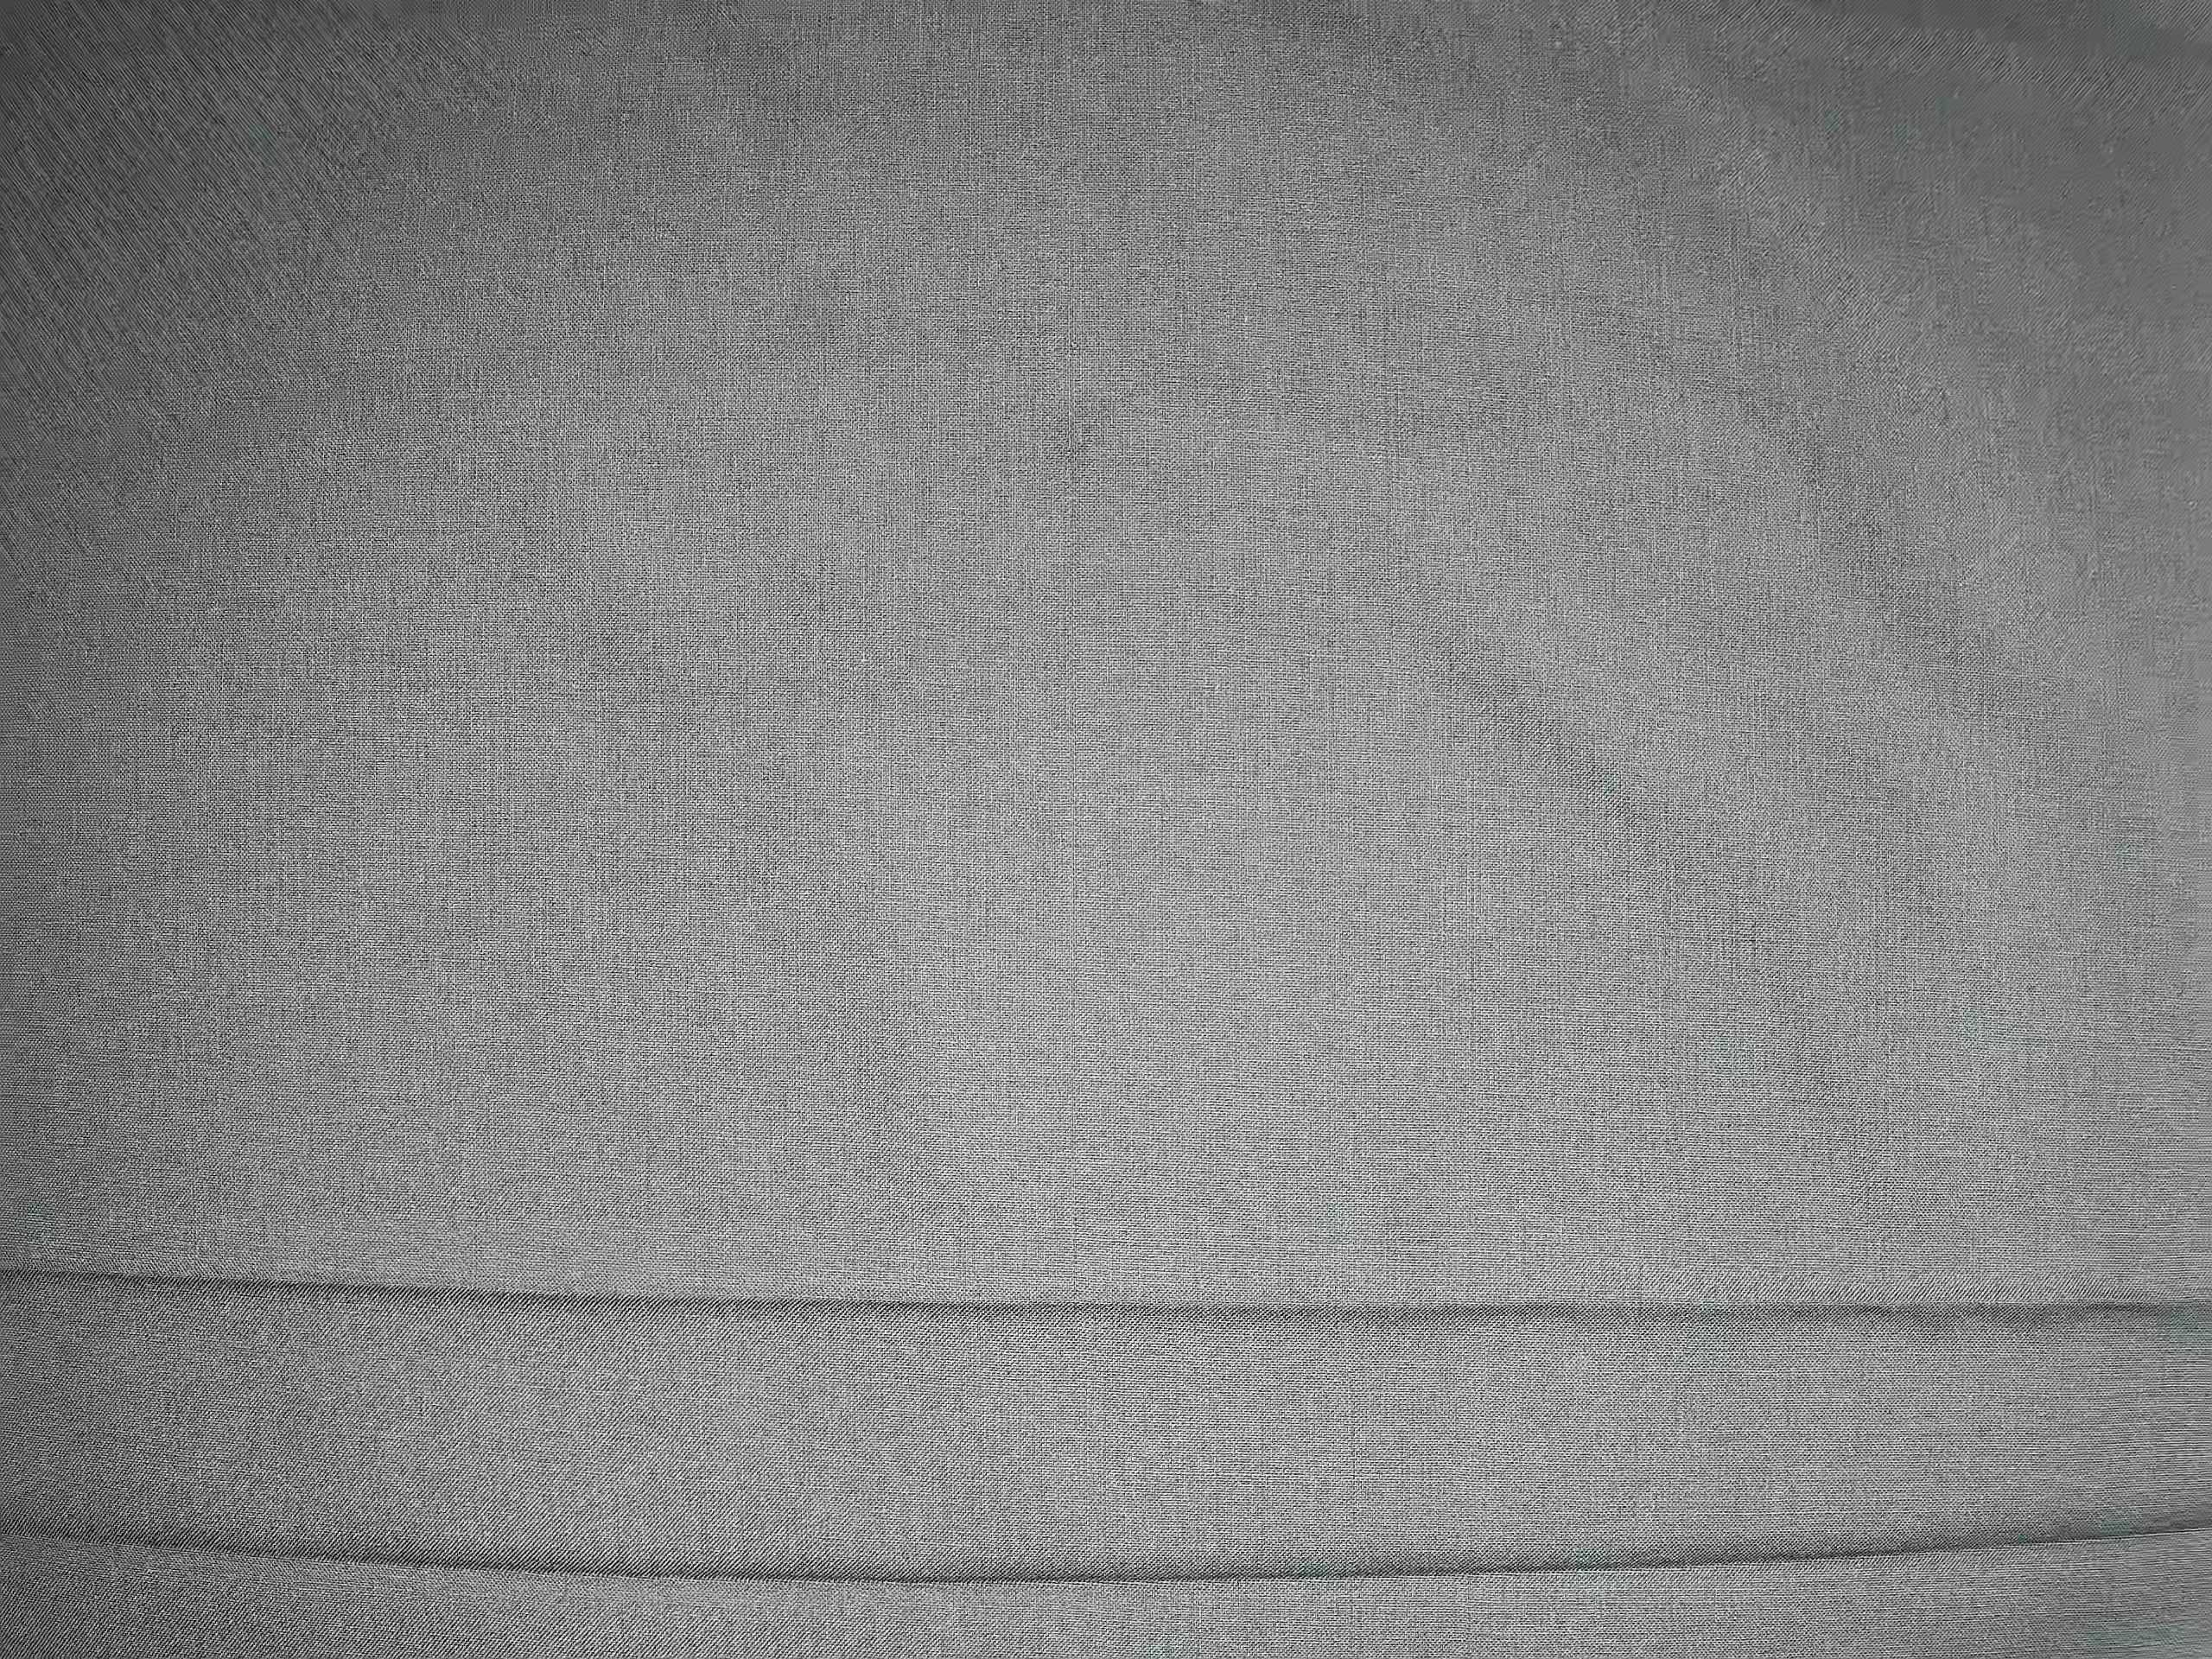hanging-warp: (1052, 268, 1099, 610)
